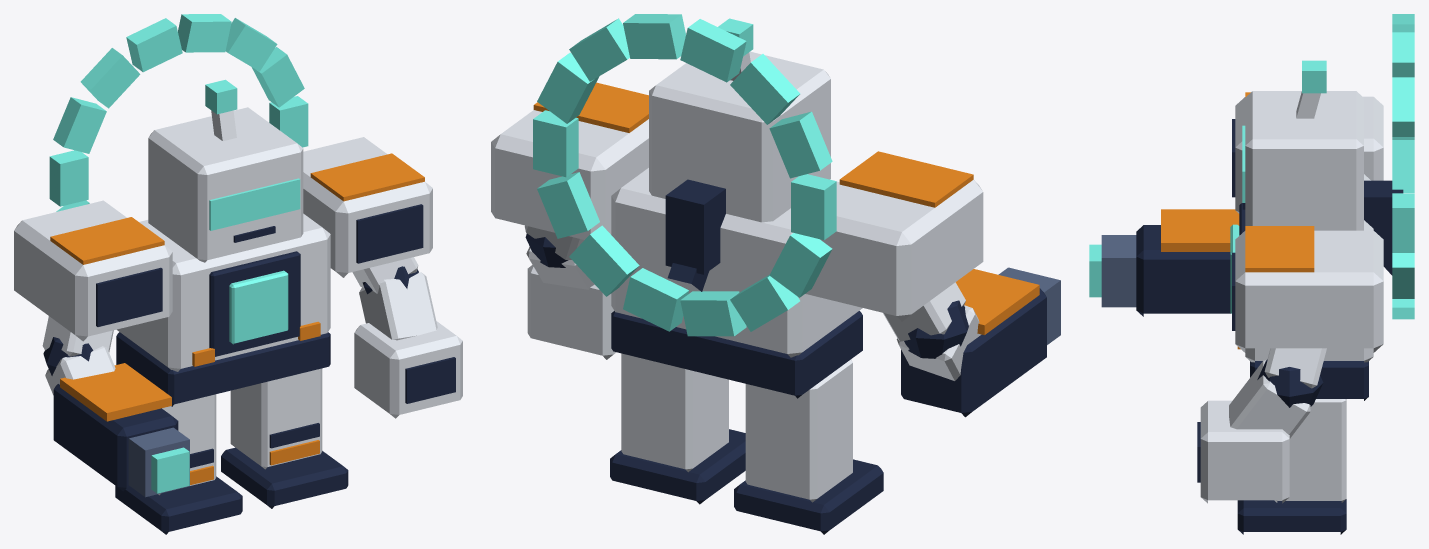
File: r9_boss_orbital_guardian.glb
3 renders of one model, left to right at view 1: azimuth 30°, elevation 25°; view 2: azimuth 150°, elevation 25°; view 3: azimuth 270°, elevation 25°, orthographic. The views are drawn at different scales.
Parts seen in each view (by area): view 1: r9_boss_orbital_guardian_mesh; view 2: r9_boss_orbital_guardian_mesh; view 3: r9_boss_orbital_guardian_mesh.
Boxes of the visible parts, x1=… form: r9_boss_orbital_guardian_mesh: x1=14, y1=14, x2=462, y2=534; r9_boss_orbital_guardian_mesh: x1=491, y1=14, x2=1060, y2=534; r9_boss_orbital_guardian_mesh: x1=1089, y1=14, x2=1414, y2=534.
Size of the model in its own units: 7.23 by 8 by 5.11.
1 material, 1 textured.
